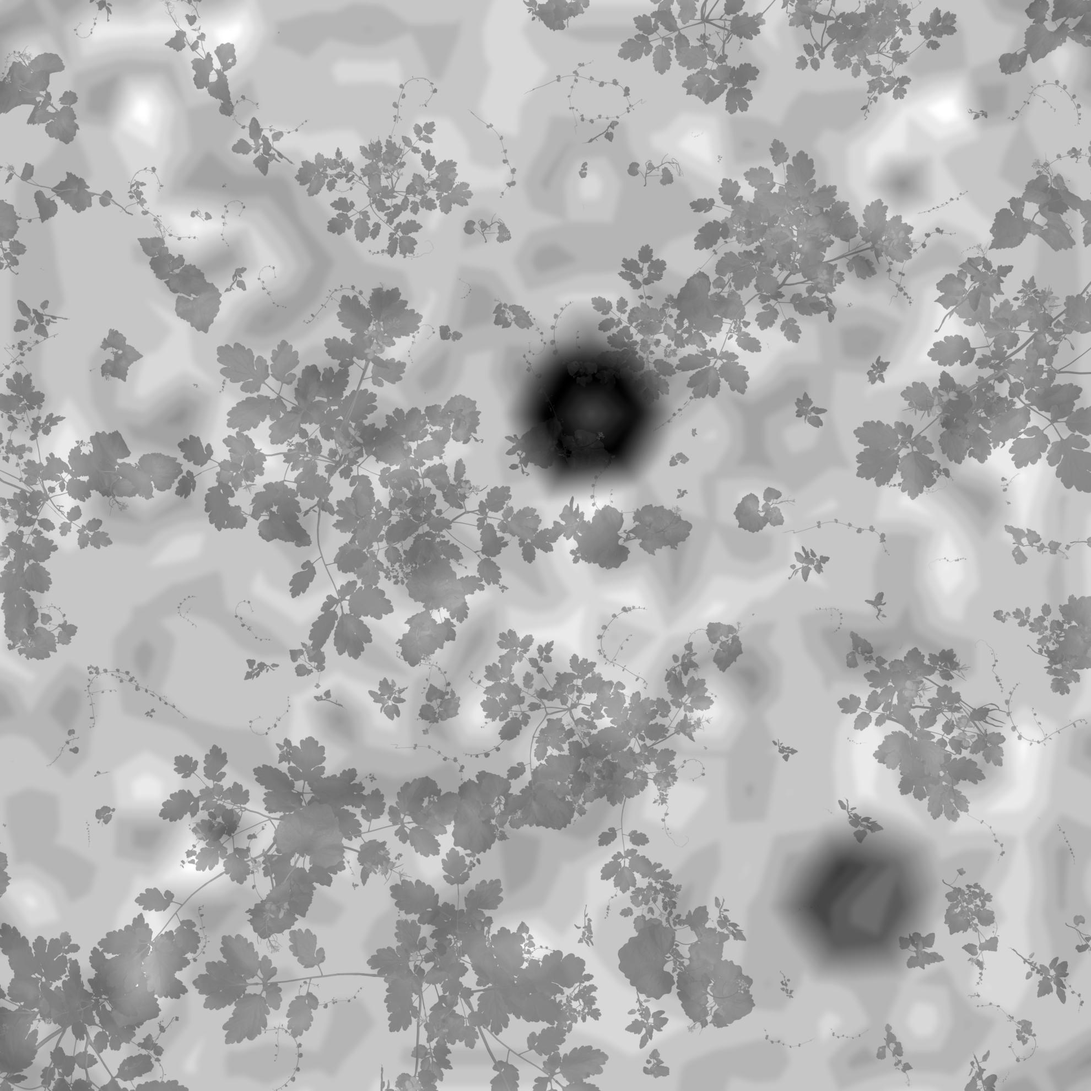landmine: (511, 333, 658, 491), (791, 826, 949, 971)
